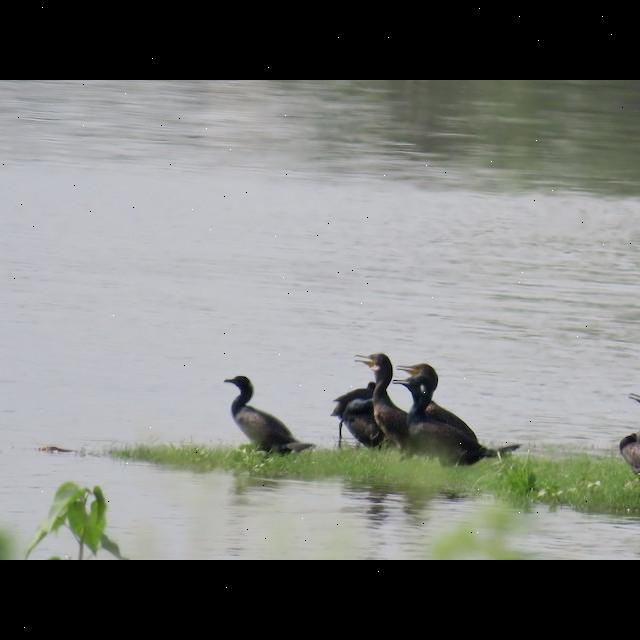cormorant: (219, 371, 309, 452), (614, 392, 640, 480)
